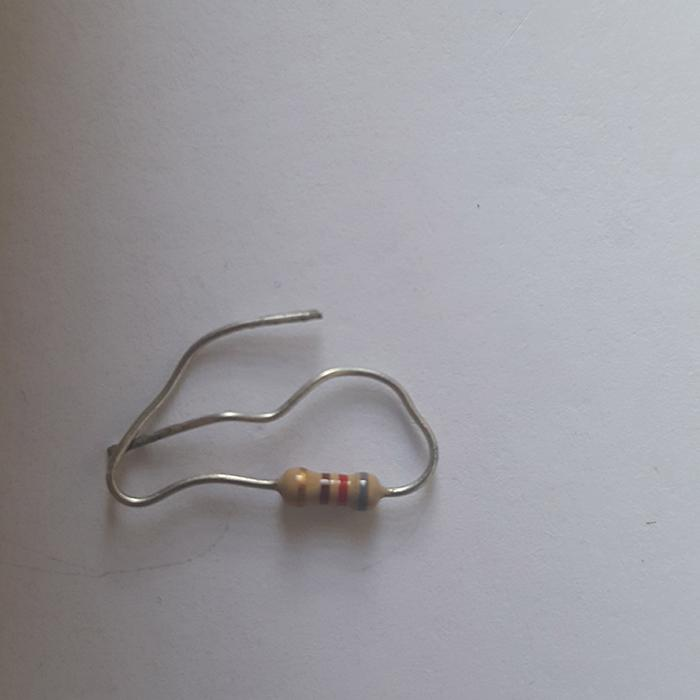resistor: (277, 466, 388, 510)
